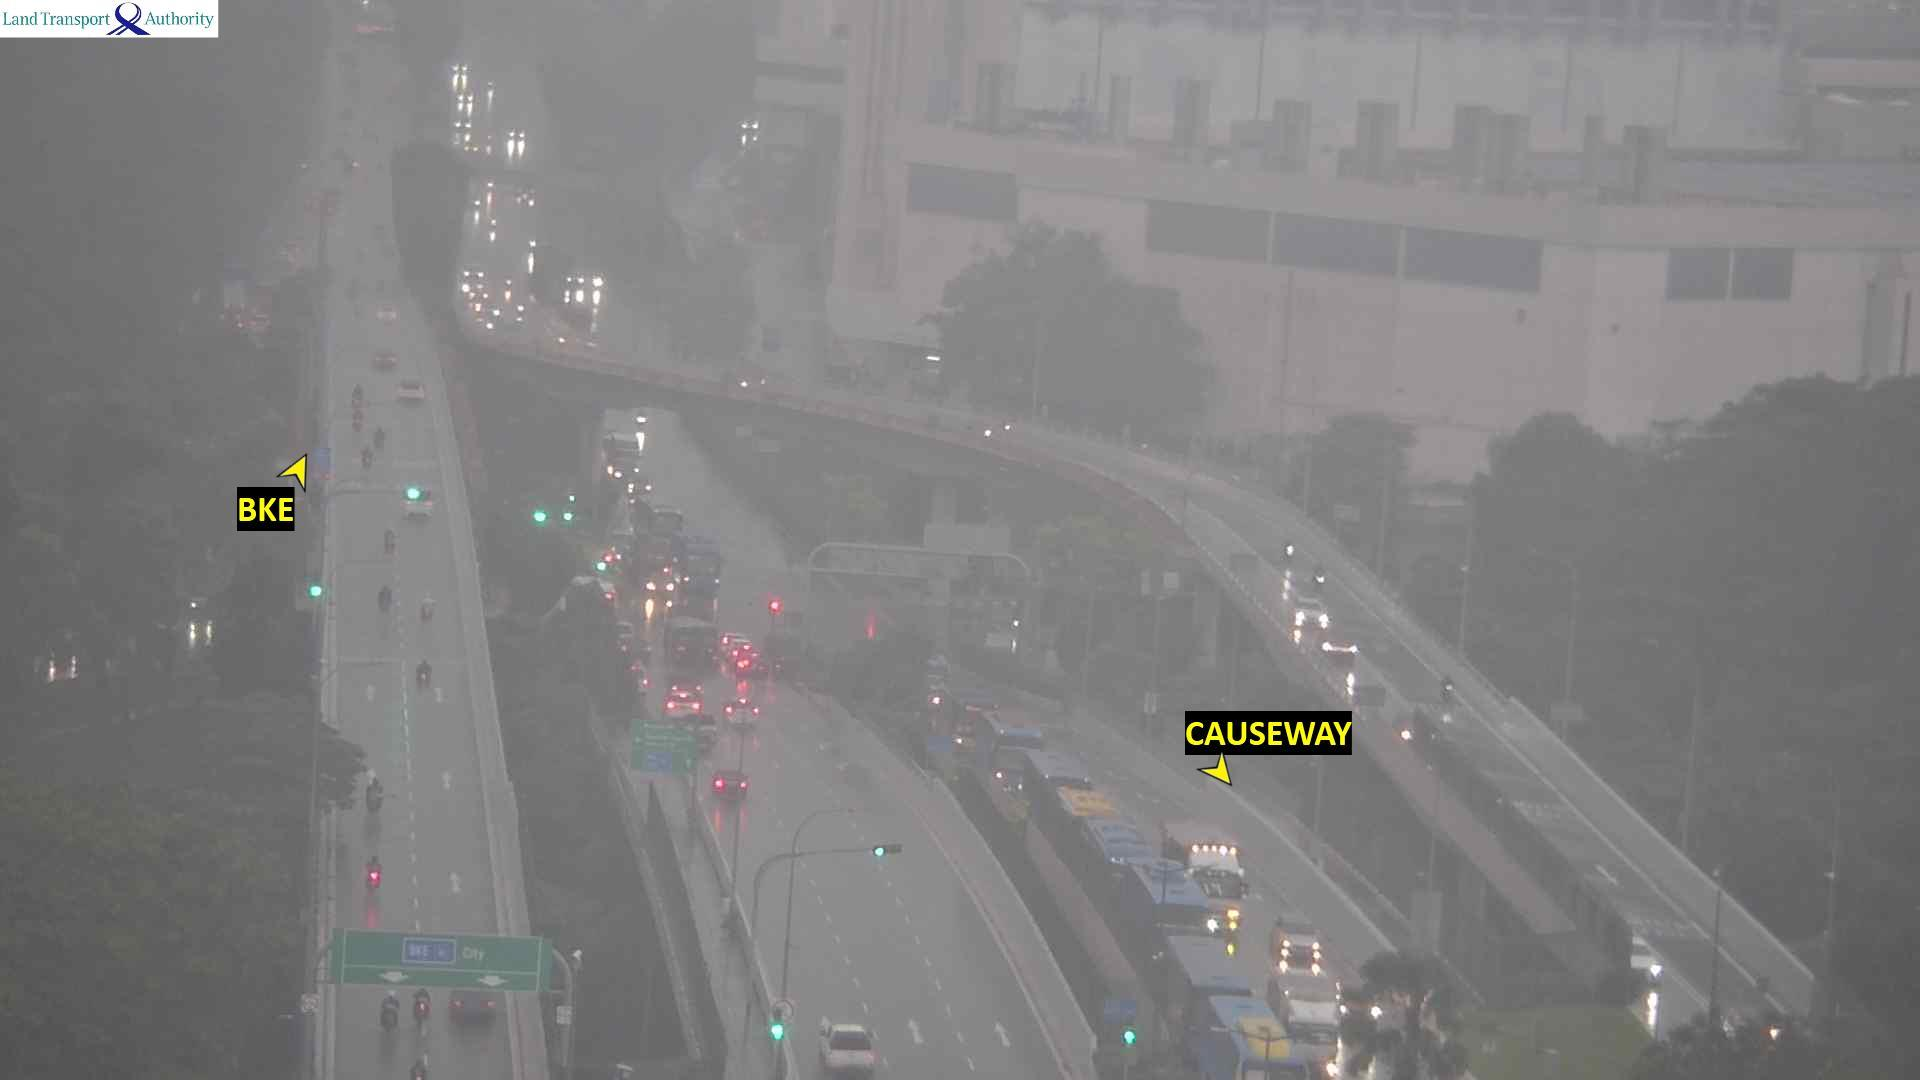vehicle-causeway-johor: (1127, 936, 1244, 1043), (1117, 857, 1201, 930), (930, 673, 998, 753), (1022, 750, 1087, 822), (976, 715, 1036, 783), (1156, 824, 1242, 869), (1269, 978, 1336, 1027), (1233, 1018, 1295, 1067), (1056, 790, 1116, 837), (1615, 939, 1662, 985), (1278, 911, 1315, 960), (1212, 1000, 1269, 1030), (1291, 597, 1325, 629), (1320, 640, 1366, 659), (975, 422, 1015, 442), (732, 369, 760, 389), (463, 265, 487, 278), (1312, 567, 1324, 589), (464, 281, 487, 293), (1439, 674, 1449, 695), (1284, 538, 1292, 562), (505, 280, 512, 295)
vehicle-causeway-singapore: (820, 1029, 880, 1077), (670, 621, 715, 669), (448, 994, 498, 1025), (661, 686, 702, 719), (713, 774, 742, 800), (729, 700, 758, 724), (397, 384, 426, 405), (731, 644, 756, 667), (740, 661, 769, 678), (364, 781, 376, 810), (364, 864, 375, 894), (384, 526, 396, 551), (411, 1060, 426, 1080), (357, 384, 372, 402), (417, 993, 427, 1018), (359, 450, 369, 473), (359, 405, 373, 422), (418, 663, 427, 690), (380, 587, 390, 609), (375, 426, 384, 450)
